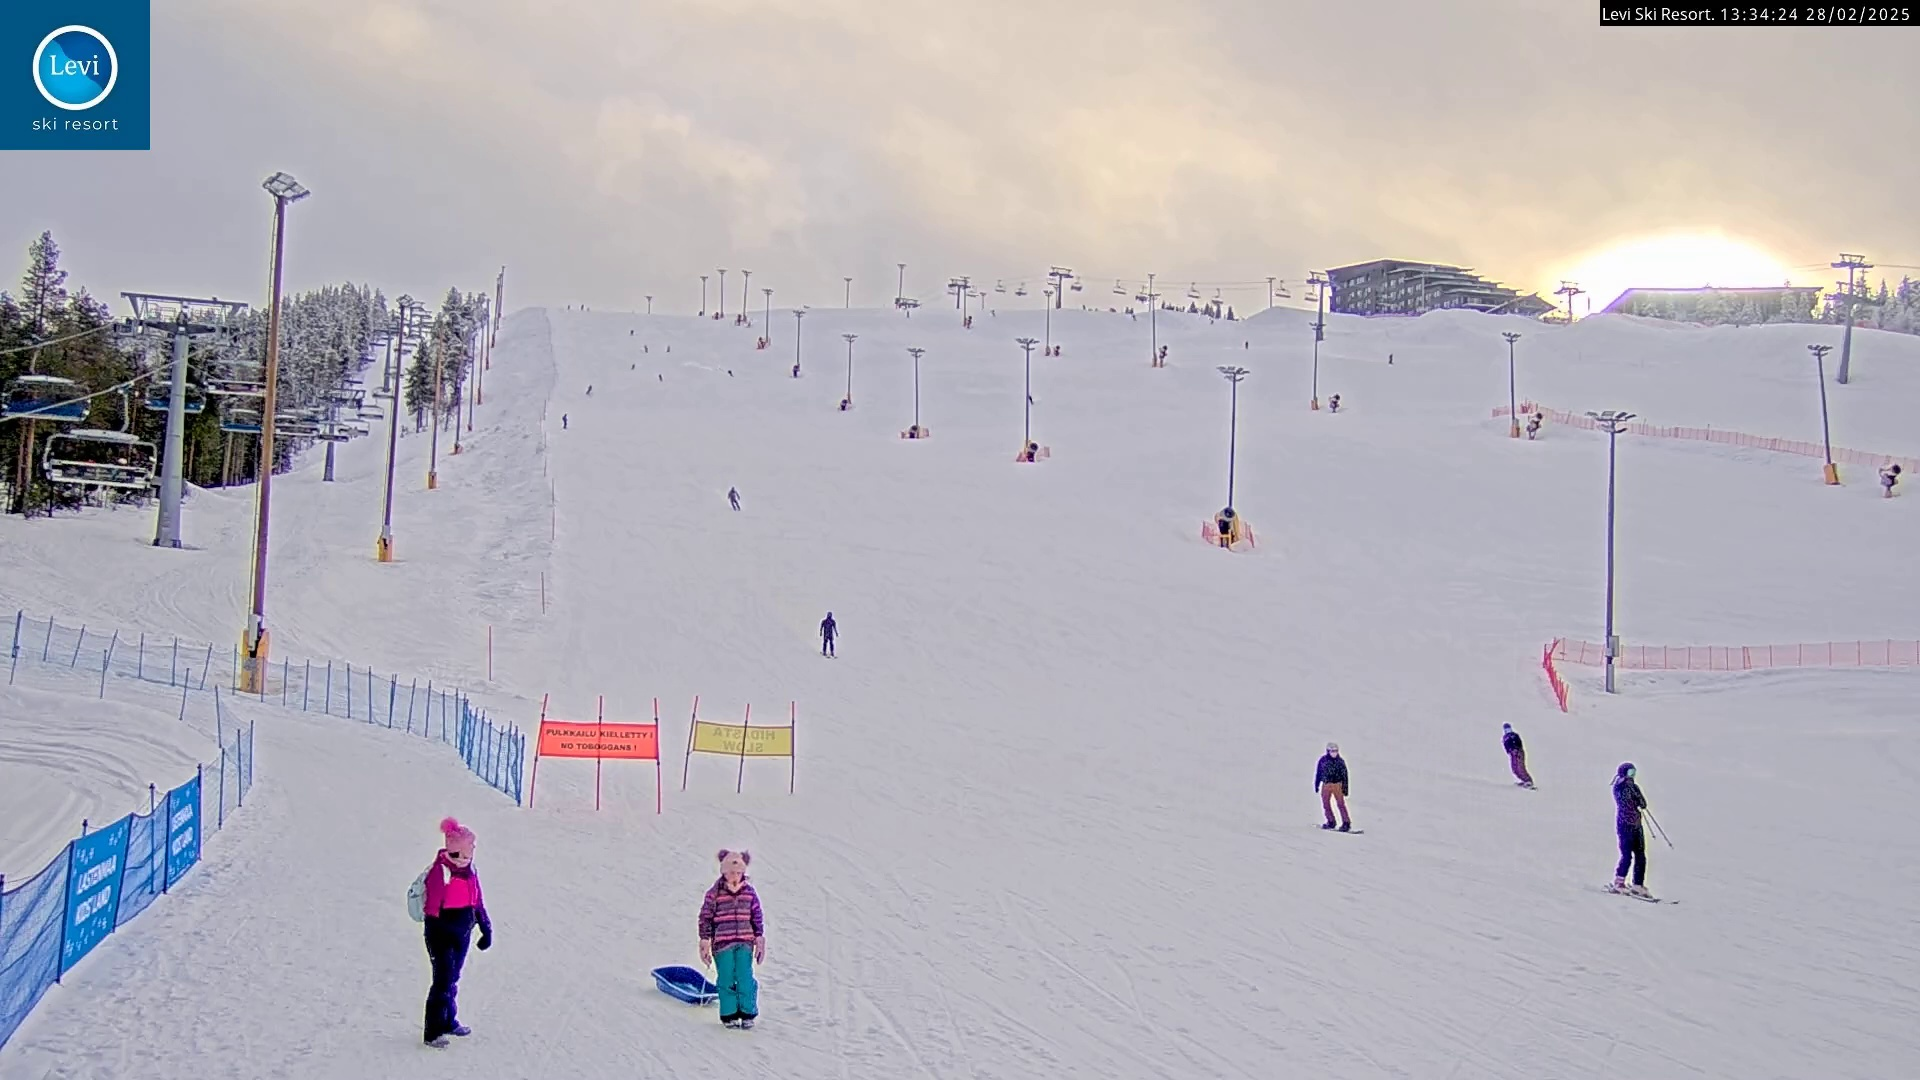skier: (1597, 757, 1684, 910)
snowboarder: (1313, 742, 1369, 831), (1497, 721, 1543, 791)
